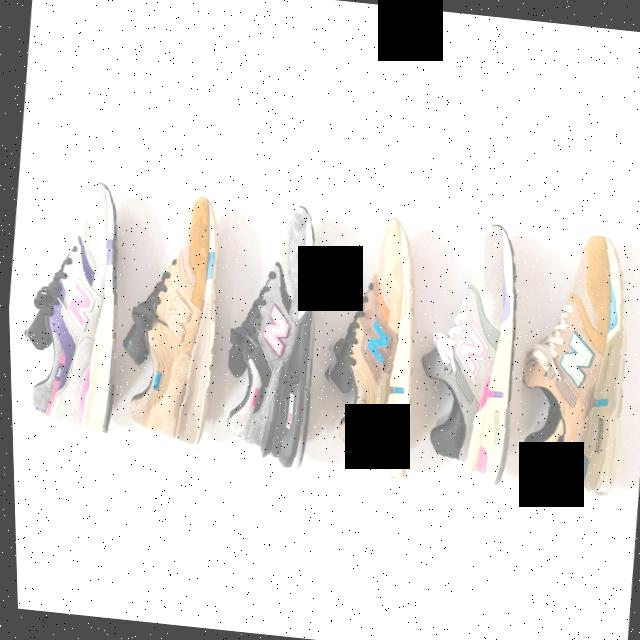shoe: (505, 229, 640, 497), (398, 217, 529, 492), (106, 190, 236, 452), (7, 172, 135, 436), (211, 198, 332, 475), (307, 208, 430, 478)
